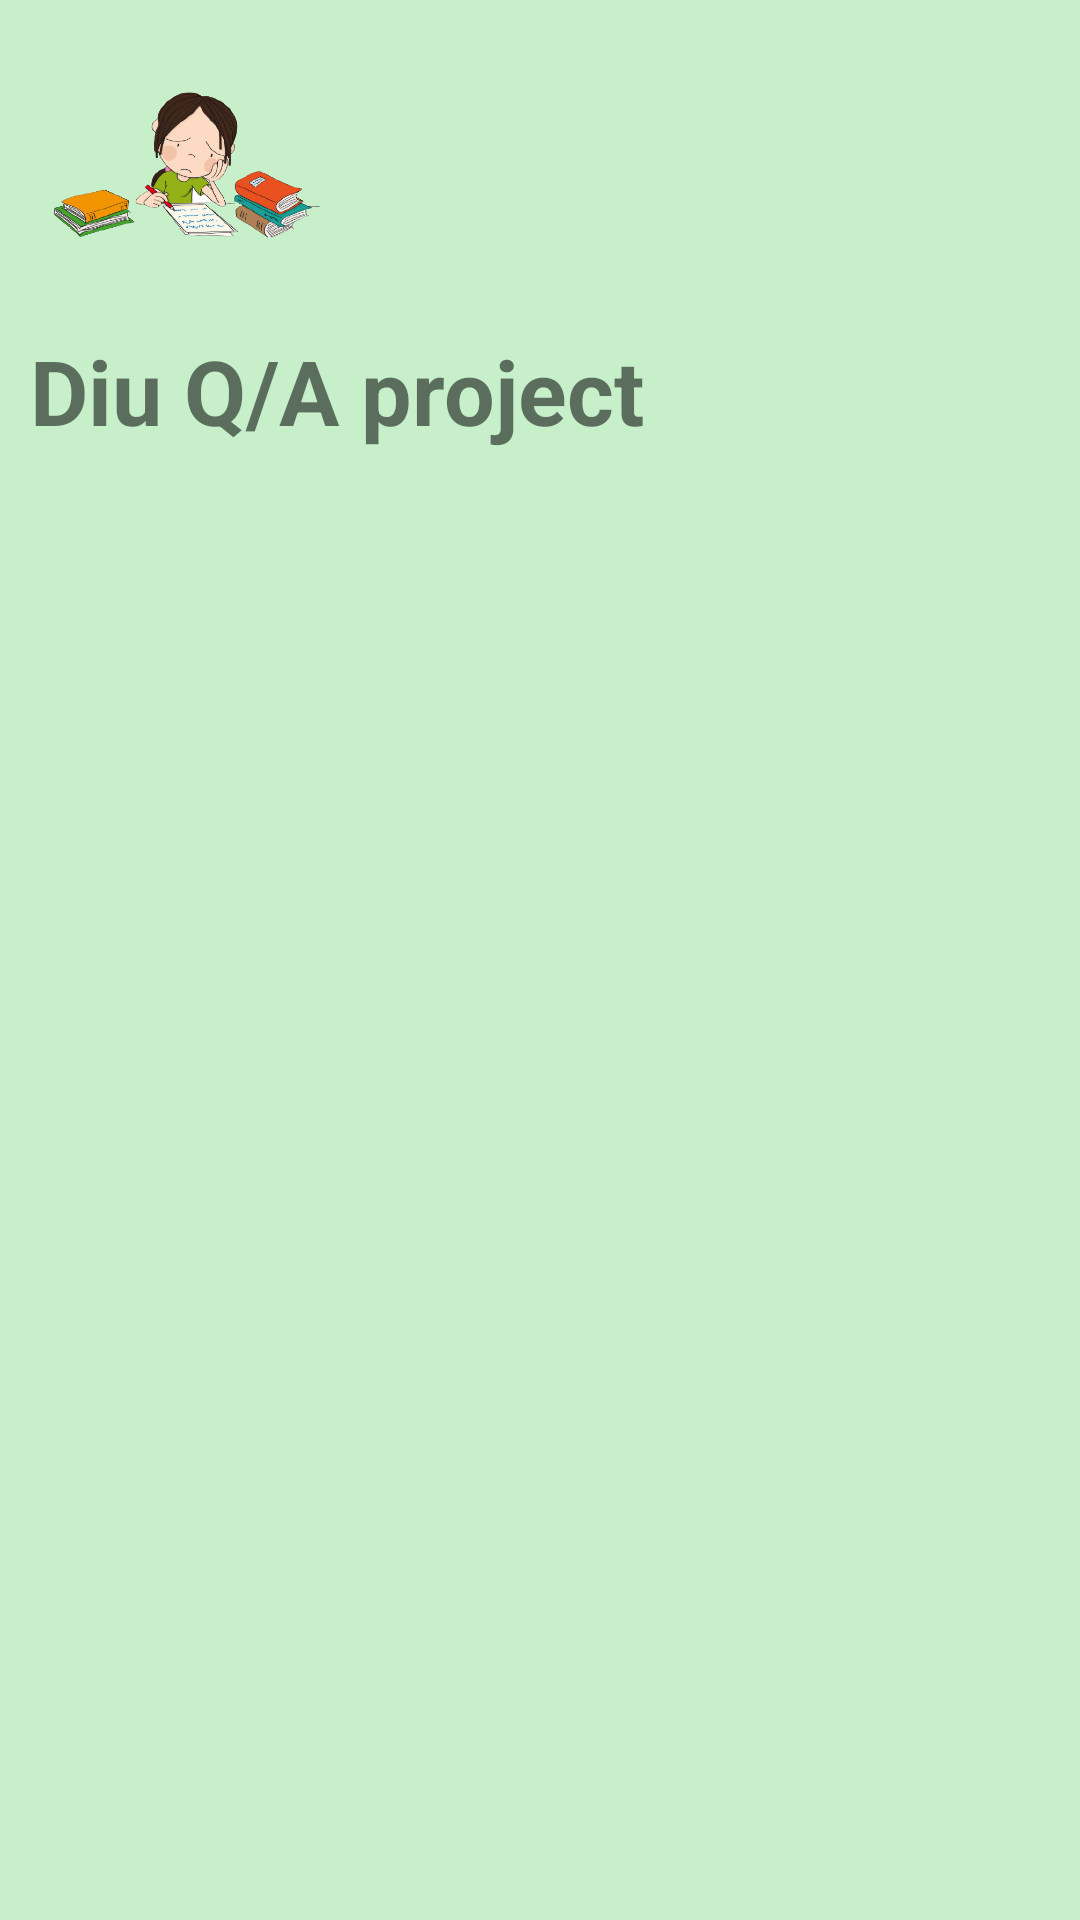

Named icons in this screenshot (1080px×1920px) and their bounding boxes, {"x1": x1, "y1": y1, "x2": x2, "y2": y2}:
exam: {"x1": 54, "y1": 92, "x2": 320, "y2": 238}
